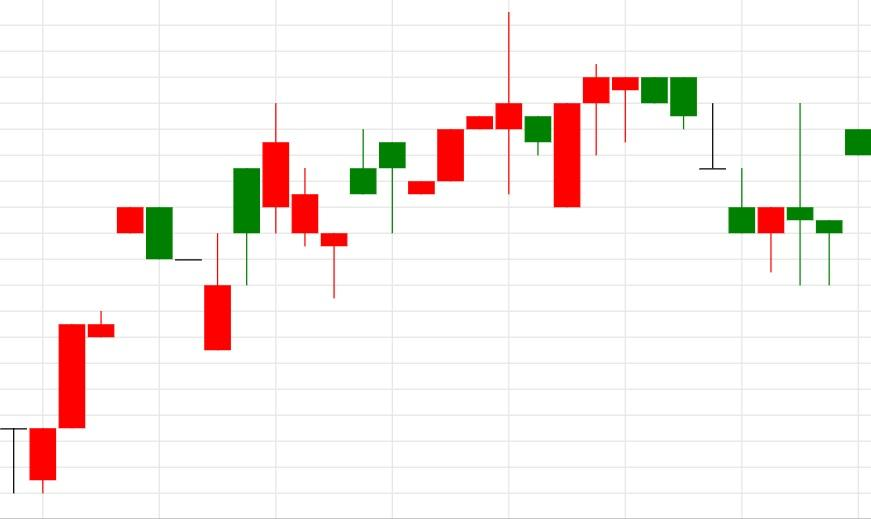bearish_engulfing_fall: (28, 207, 174, 493)
hanging_man_fall: (319, 129, 406, 300)
